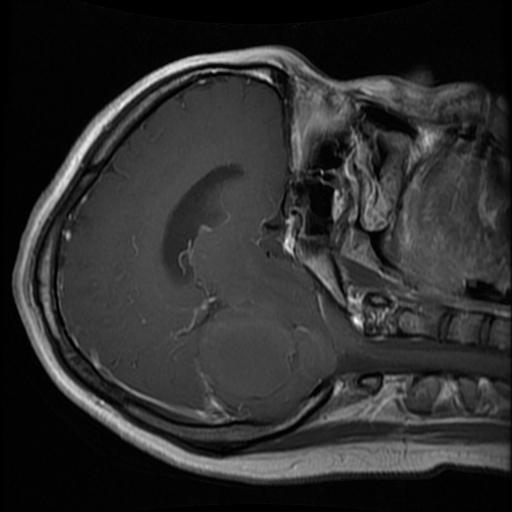glioma: (198, 311, 337, 401)
